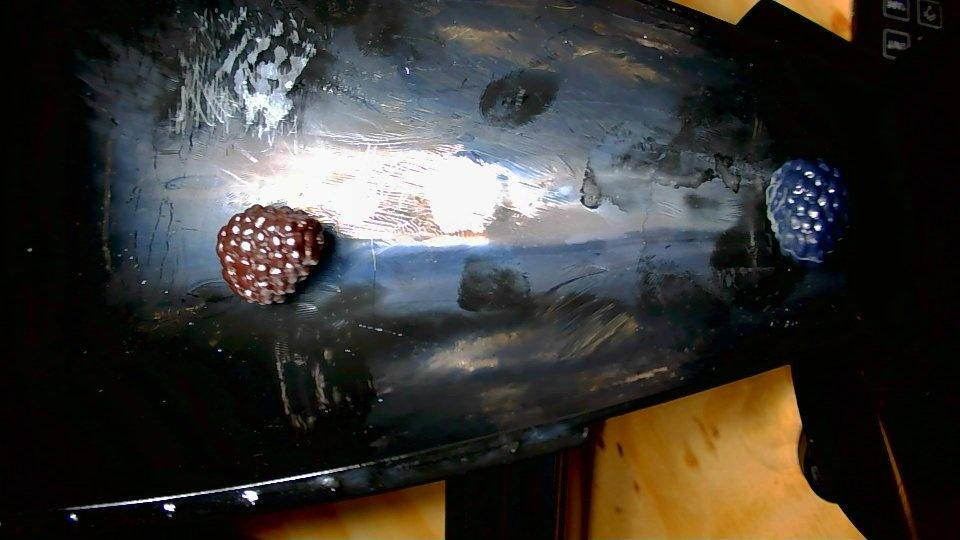berry: (216, 204, 324, 304), (766, 159, 847, 262)
